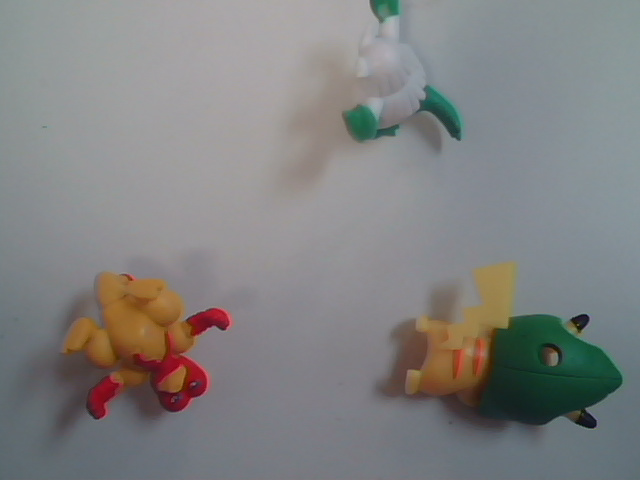abomasnow: (295, 3, 491, 208)
magmar: (53, 235, 282, 439)
pikachu: (399, 243, 628, 473)
